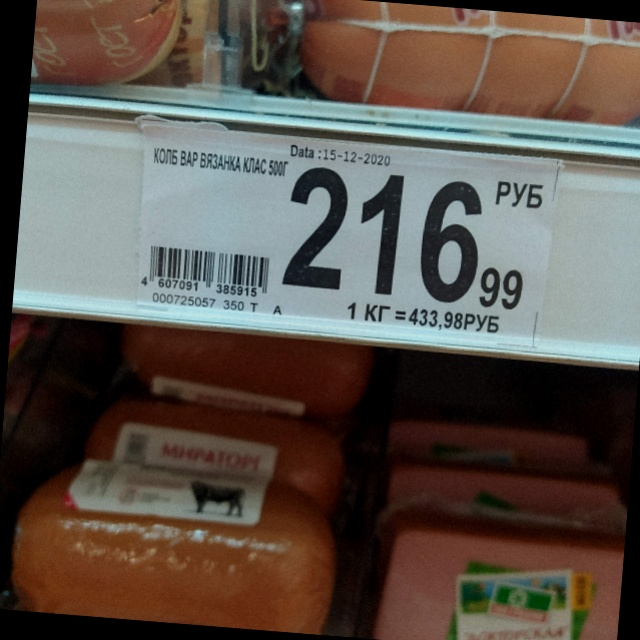barcode: (139, 244, 273, 298)
name: (149, 144, 290, 179)
price: (280, 167, 524, 312)
price_tag: (139, 120, 564, 350)
